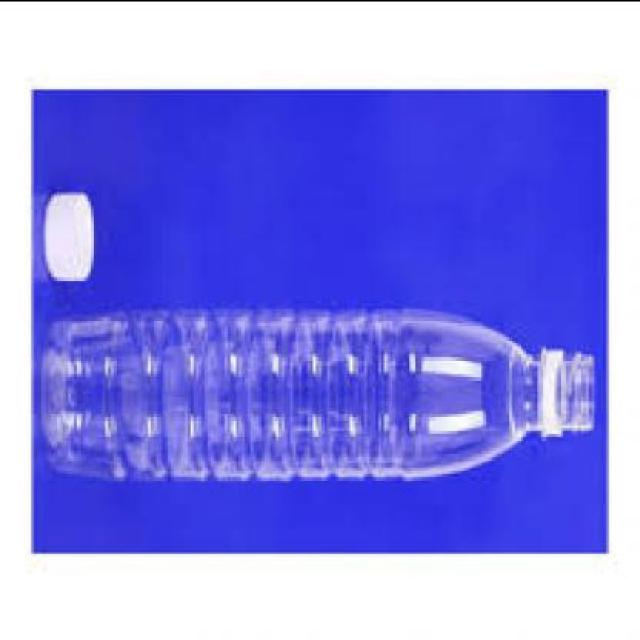PLASTIC: (43, 310, 600, 481), (45, 190, 97, 282)
